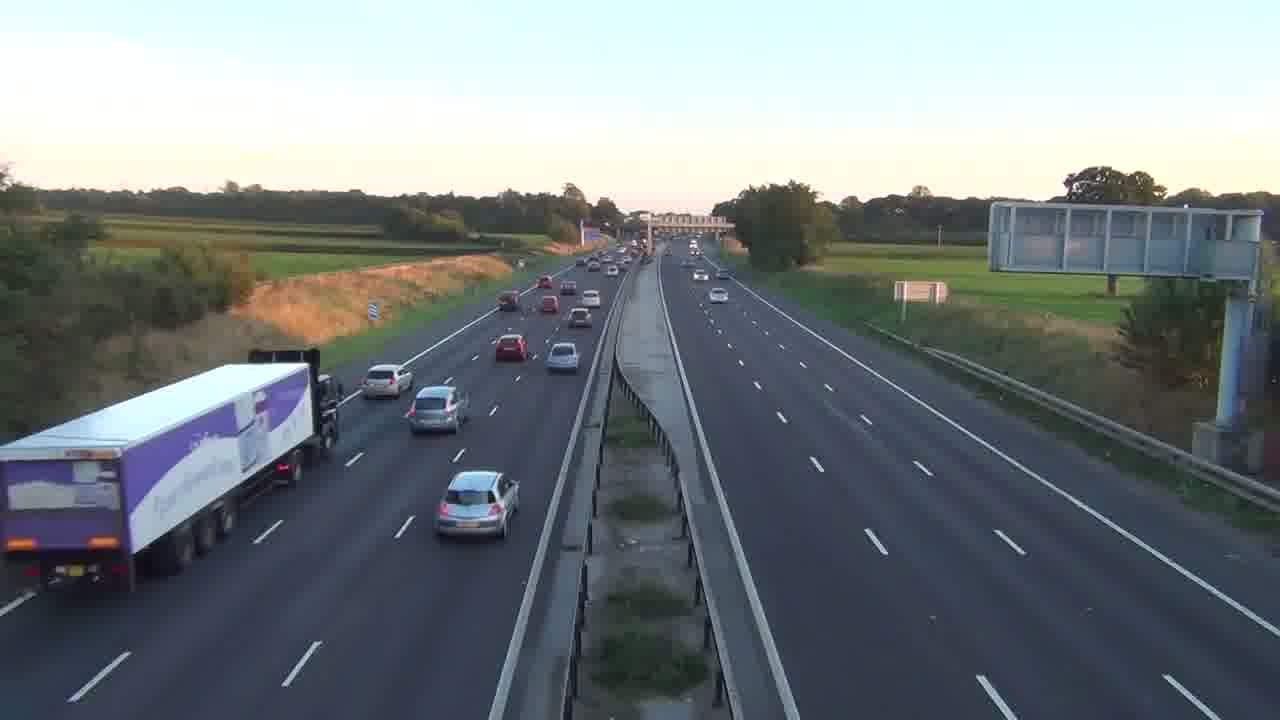car: (432, 468, 521, 541), (405, 383, 466, 435), (362, 363, 408, 399), (545, 340, 579, 373), (494, 333, 528, 363), (567, 306, 593, 328)
truck: (0, 361, 315, 594)
